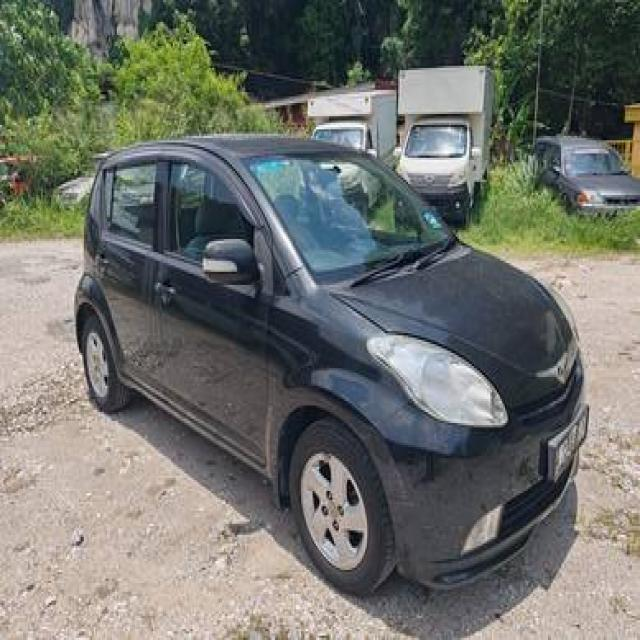PeroduaMyvi: (72, 130, 591, 598)
